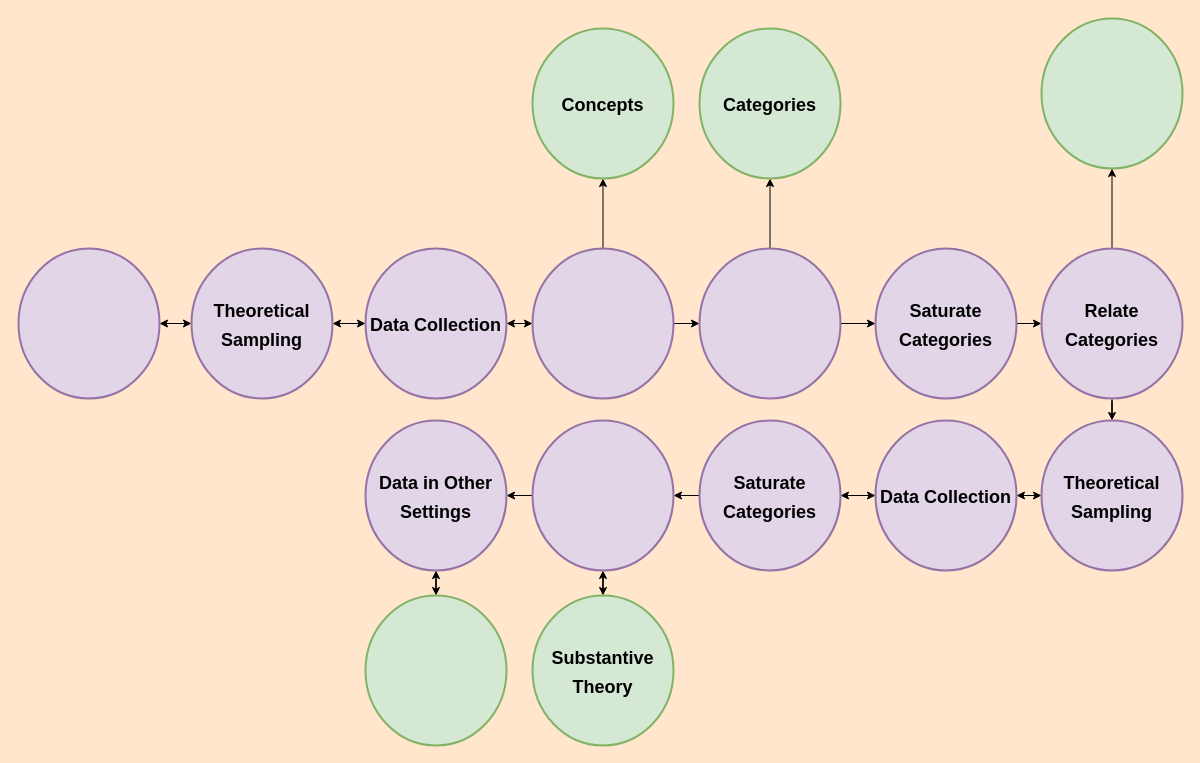
This 1200x763 diagram has some shape labels left out. Here are the shapes that lost their labels. From the top down, the box of each, then its label:
(1040, 17, 1183, 169): Hypotheses
(17, 247, 160, 399): Rough Question
(531, 247, 674, 399): Coding
(698, 247, 841, 399): Constant Comparison
(531, 419, 674, 571): Test Hypotheses
(364, 594, 507, 746): Formal Theory
